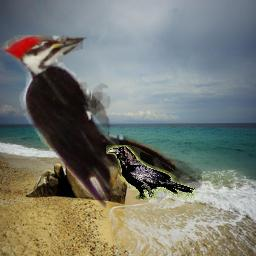Crow: (106, 145, 195, 200)
Woodpecker: (0, 35, 202, 210)
